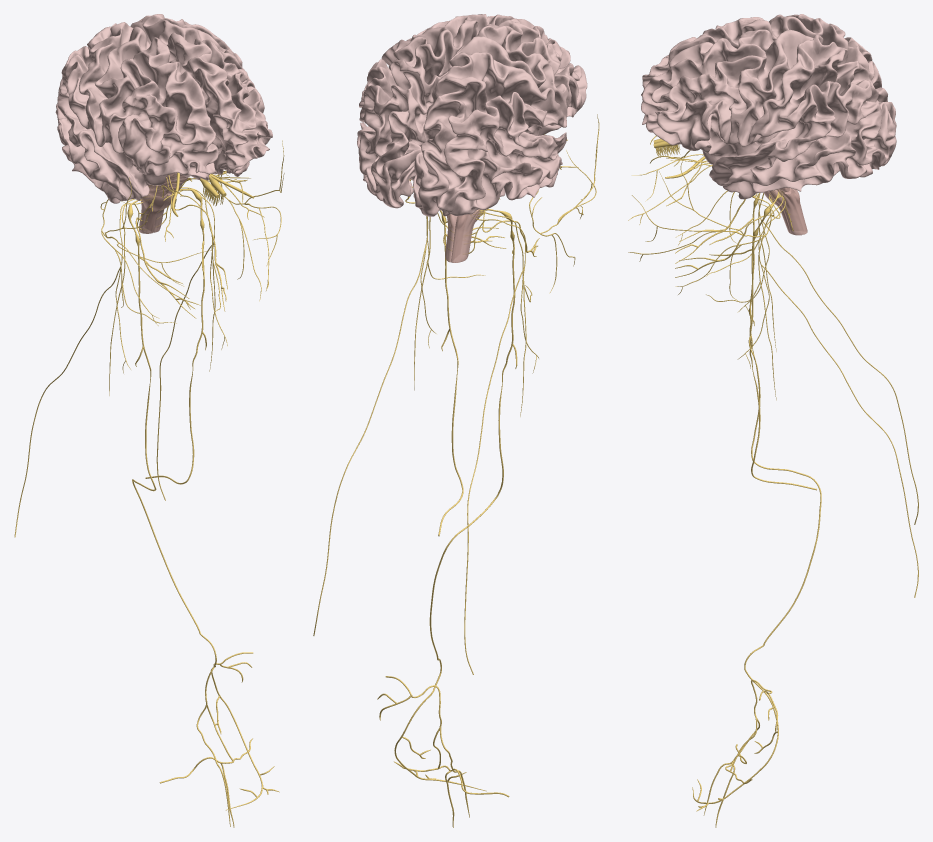
Rendered from cranial-nerves.glb.
The picture shows the model from 3 angles, left to right: view 1: azimuth 30°, elevation 25°; view 2: azimuth 150°, elevation 25°; view 3: azimuth 270°, elevation 25°; orthographic projection. The views are drawn at different scales.
Visible parts, largest first — view 1: White_matter_of_telencephalonr, White_matter_of_telencephalonl, Vagus_nerve_(X)r, Facial_nerve_(VII)r, Vagus_nerve_(X)l, Accessory_nerve_(XI)r, Facial_nerve_(VII)l, Medulla_oblongatar, Accessory_nerve_(XI)l; view 2: White_matter_of_telencephalonr, White_matter_of_telencephalonl, Vagus_nerve_(X)r, Accessory_nerve_(XI)r, Accessory_nerve_(XI)l, Medulla_oblongatar, Vagus_nerve_(X)l, Facial_nerve_(VII)r; view 3: White_matter_of_telencephalonl, White_matter_of_telencephalonr, Vagus_nerve_(X)r, Medulla_oblongatal, Facial_nerve_(VII)l, Accessory_nerve_(XI)l, Vagus_nerve_(X)l, Accessory_nerve_(XI)r.
Boxes of the visible parts, x1=… form: White_matter_of_telencephalonr: x1=55, y1=22, x2=218, y2=203; White_matter_of_telencephalonl: x1=130, y1=14, x2=272, y2=176; Vagus_nerve_(X)r: x1=127, y1=198, x2=279, y2=827; Facial_nerve_(VII)r: x1=100, y1=177, x2=211, y2=325; Vagus_nerve_(X)l: x1=145, y1=189, x2=206, y2=484; Accessory_nerve_(XI)r: x1=14, y1=199, x2=149, y2=537; Facial_nerve_(VII)l: x1=173, y1=140, x2=284, y2=301; Medulla_oblongatar: x1=139, y1=186, x2=166, y2=233; Accessory_nerve_(XI)l: x1=156, y1=188, x2=227, y2=500; White_matter_of_telencephalonr: x1=413, y1=18, x2=587, y2=216; White_matter_of_telencephalonl: x1=357, y1=14, x2=514, y2=208; Vagus_nerve_(X)r: x1=377, y1=208, x2=517, y2=827; Accessory_nerve_(XI)r: x1=464, y1=215, x2=538, y2=674; Accessory_nerve_(XI)l: x1=313, y1=210, x2=453, y2=635; Medulla_oblongatar: x1=451, y1=209, x2=483, y2=262; Vagus_nerve_(X)l: x1=438, y1=210, x2=492, y2=536; Facial_nerve_(VII)r: x1=529, y1=114, x2=599, y2=293; White_matter_of_telencephalonl: x1=641, y1=29, x2=896, y2=199; White_matter_of_telencephalonr: x1=641, y1=14, x2=896, y2=127; Vagus_nerve_(X)r: x1=692, y1=193, x2=821, y2=827; Medulla_oblongatal: x1=763, y1=188, x2=807, y2=235; Facial_nerve_(VII)l: x1=628, y1=156, x2=774, y2=300; Accessory_nerve_(XI)l: x1=737, y1=199, x2=918, y2=597; Vagus_nerve_(X)l: x1=709, y1=191, x2=816, y2=490; Accessory_nerve_(XI)r: x1=737, y1=195, x2=918, y2=524.
Bounding box in the file's own units: 13.54 × 59.13 × 19.9.
